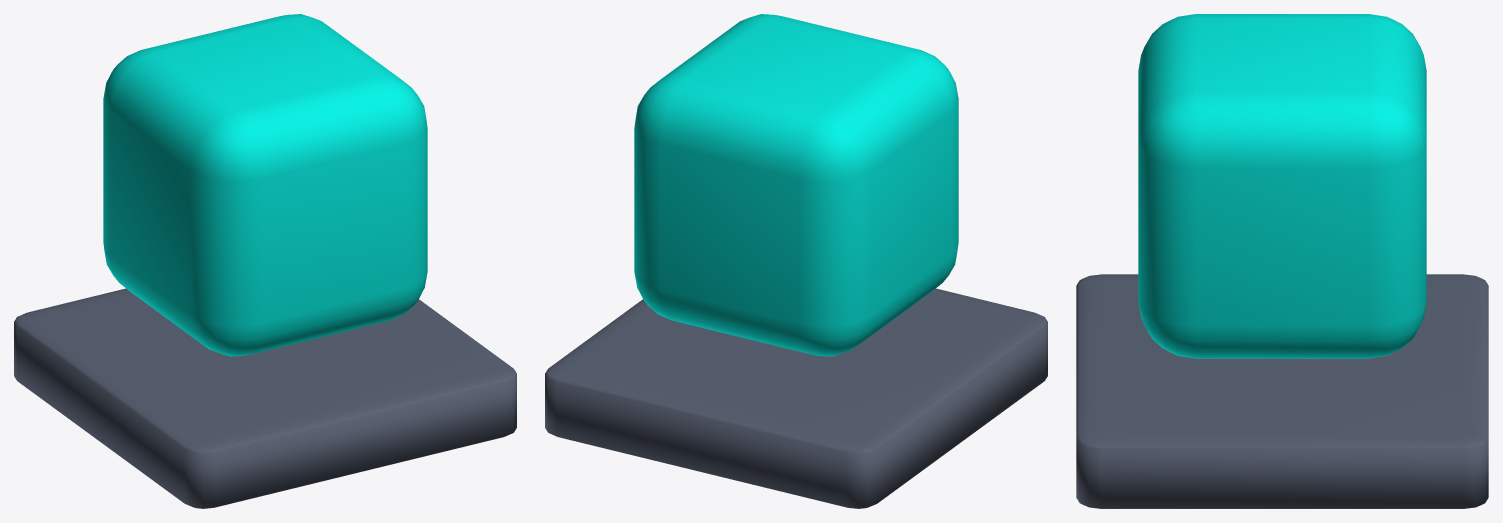
File: spike-probe.glb
The picture shows the model from 3 angles, left to right: view 1: azimuth 30°, elevation 25°; view 2: azimuth 150°, elevation 25°; view 3: azimuth 270°, elevation 25°; orthographic projection. The views are drawn at different scales.
Parts seen in each view (by area): view 1: CoilHead, CoilTile; view 2: CoilHead, CoilTile; view 3: CoilHead, CoilTile.
Boxes of the visible parts, x1,y1,x2,y2 form: CoilHead: (103,14,427,356); CoilTile: (14,288,516,508); CoilHead: (634,14,958,356); CoilTile: (545,288,1047,508); CoilHead: (1138,14,1426,358); CoilTile: (1076,274,1488,508).
Size of the model in its own units: 1 by 0.99 by 1.
